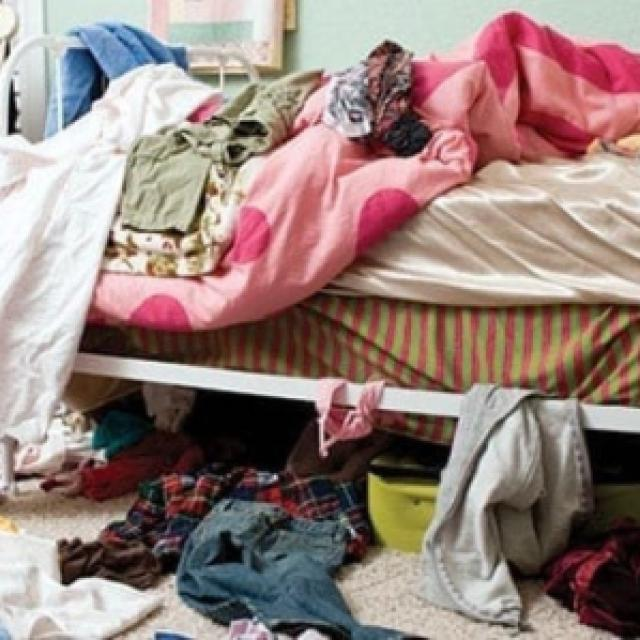scattered-items: (123, 465, 640, 640)
